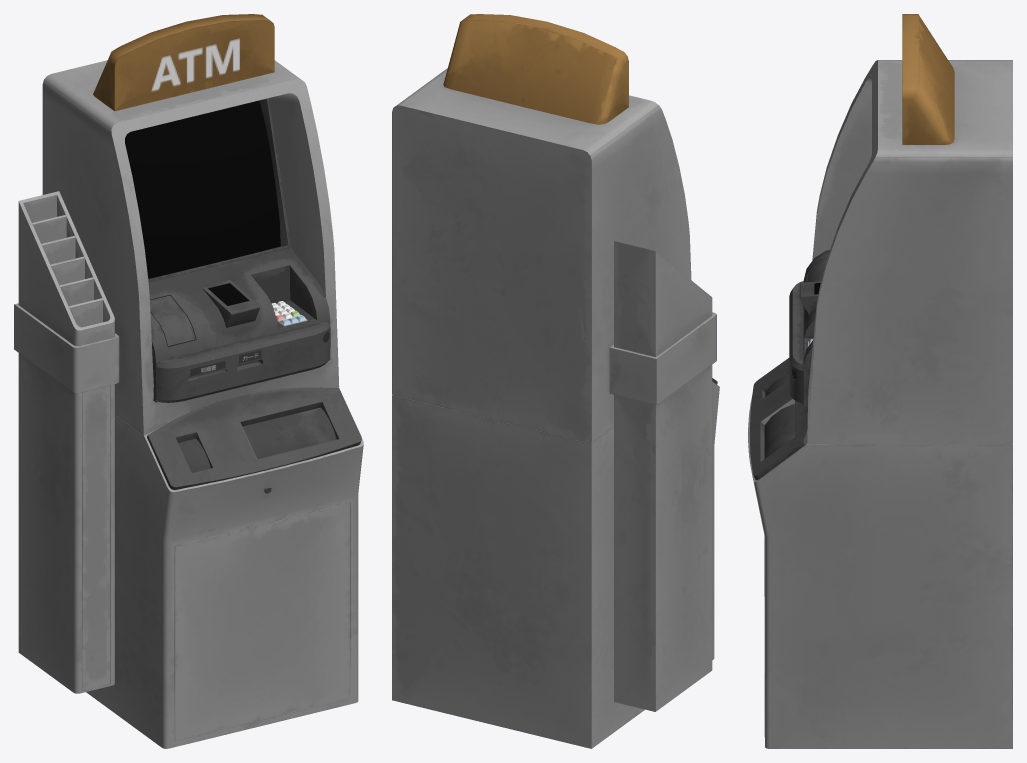
The model's file is model07_atm.glb.
3 views of the same model, side by side, from view 1: azimuth 30°, elevation 25°; view 2: azimuth 150°, elevation 25°; view 3: azimuth 270°, elevation 25° (orthographic). The views are drawn at different scales.
Visible parts, largest first — view 1: ATM.007, ATM.005, ATM.004, ATM, ATM.006, ATM.001, ATM.002; view 2: ATM.007, ATM.005, ATM.006; view 3: ATM.007, ATM.006, ATM, ATM.001, ATM.002.
Part boxes in pixels (<box>): ATM.007: <box>42,60,363,748</box>; ATM.005: <box>14,191,119,693</box>; ATM.004: <box>125,100,280,278</box>; ATM: <box>148,98,330,402</box>; ATM.006: <box>93,14,274,111</box>; ATM.001: <box>156,320,330,402</box>; ATM.002: <box>178,407,336,493</box>; ATM.007: <box>392,68,719,748</box>; ATM.005: <box>609,241,716,711</box>; ATM.006: <box>443,14,628,124</box>; ATM.007: <box>748,60,1012,748</box>; ATM.006: <box>902,14,954,144</box>; ATM: <box>799,250,829,406</box>; ATM.001: <box>789,281,803,405</box>; ATM.002: <box>764,374,794,458</box>.
Bounding box in the file's own units: 0.9236 × 2.37 × 0.8608.
2 materials, 2 textured.
